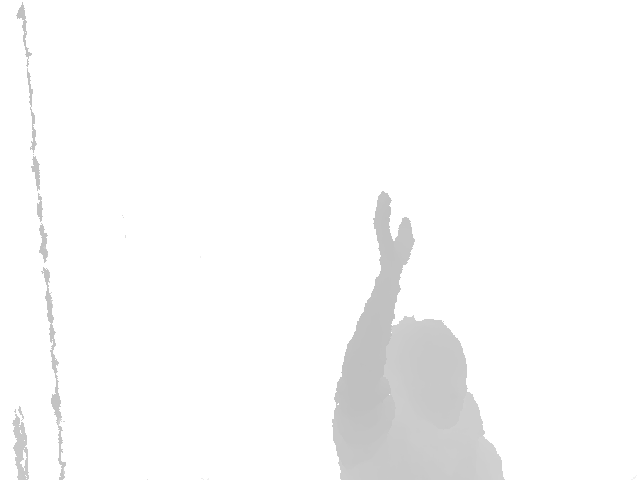hand: (373, 192, 415, 278)
head: (383, 315, 468, 430)
person: (332, 192, 505, 480)
